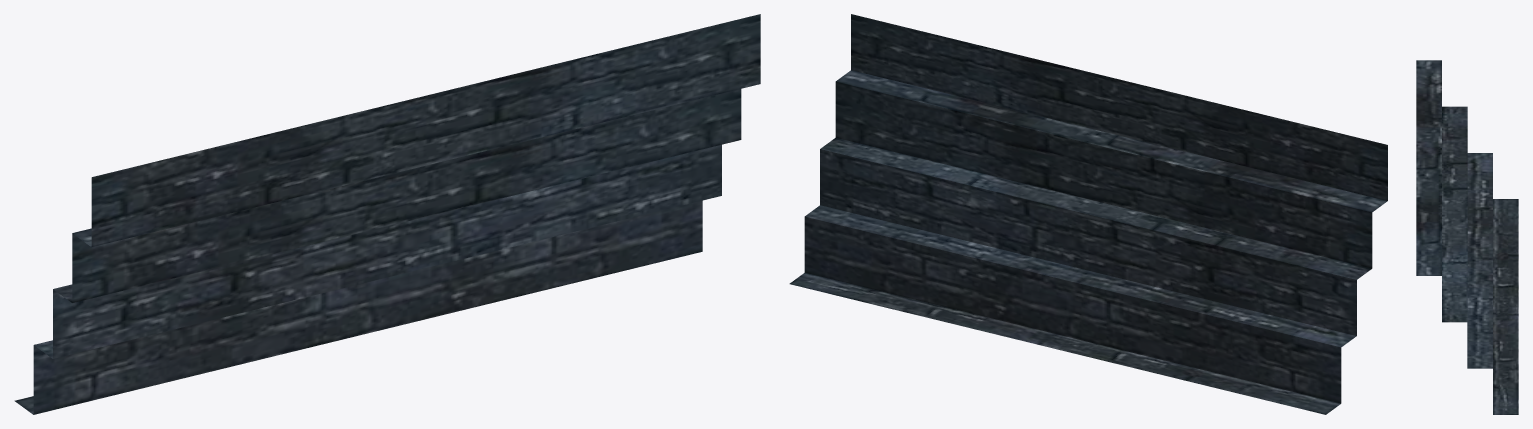
3 renders of one model, left to right at view 1: azimuth 30°, elevation 25°; view 2: azimuth 150°, elevation 25°; view 3: azimuth 270°, elevation 25°, orthographic. The views are drawn at different scales.
Visible parts, largest first — view 1: model_Object19; view 2: model_Object19; view 3: model_Object19.
Part boxes in pixels (box(x1,y1,x2,y2)): model_Object19: box(14, 14, 760, 414); model_Object19: box(789, 14, 1387, 414); model_Object19: box(1416, 60, 1518, 414).
Size of the model in its own units: 5 by 2 by 1.
Materials: 1 (1 with a texture image).
